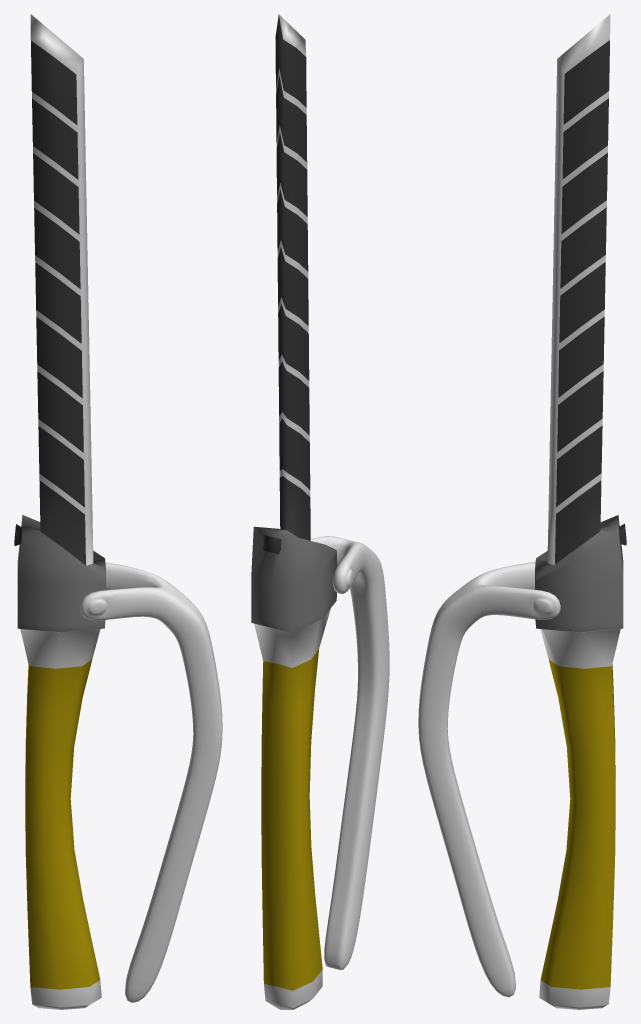
Rendered from swordcutter.fbx.
The picture shows the model from 3 angles, left to right: view 1: azimuth 90°, elevation 25°; view 2: azimuth 150°, elevation 25°; view 3: azimuth 270°, elevation 25°; orthographic projection.
Parts seen in each view (by area): view 1: Cube.002; view 2: Cube.002; view 3: Cube.002.
Boxes of the visible parts, x1,y1,x2,y2 form: Cube.002: (14, 14, 222, 1009); Cube.002: (251, 14, 389, 1009); Cube.002: (418, 14, 626, 1009).
Bounding box in the file's own units: 42.06 × 503 × 95.85.
